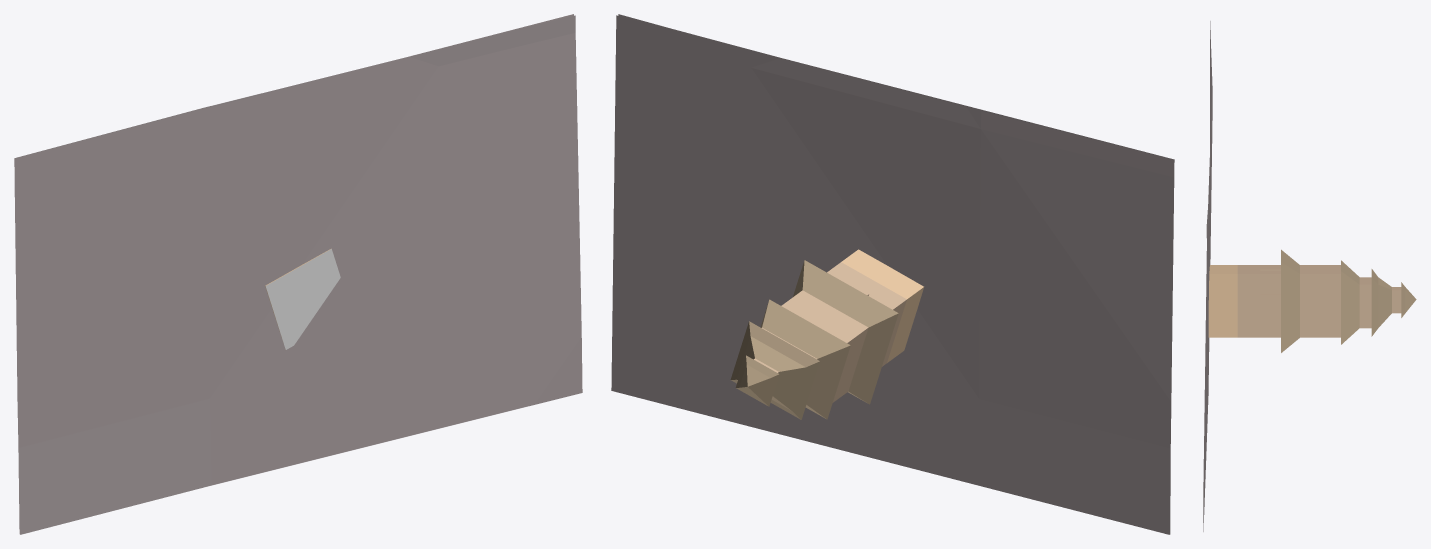
File: 7. PATAN+DURBAR+SQUARE+KATMANDU+NEPAL.fbx
3 views of the same model, side by side, from view 1: azimuth 30°, elevation 25°; view 2: azimuth 150°, elevation 25°; view 3: azimuth 270°, elevation 25° (orthographic). The views are drawn at different scales.
Visible parts, largest first — view 1: imagetostl_mesh22, imagetostl_mesh6, imagetostl_mesh5, imagetostl_mesh2, imagetostl_mesh10, imagetostl_mesh9, imagetostl_mesh3, imagetostl_mesh23, imagetostl_mesh4, imagetostl_mesh11, imagetostl_mesh17; view 2: imagetostl_mesh22, imagetostl_mesh5, imagetostl_mesh3, imagetostl_mesh1, imagetostl_mesh73, imagetostl_mesh16, imagetostl_mesh37, imagetostl_mesh69, imagetostl_mesh62, imagetostl_mesh14, imagetostl_mesh2, imagetostl_mesh36 (+10 smaller); view 3: imagetostl_mesh65, imagetostl_mesh78, imagetostl_mesh109, imagetostl_mesh67, imagetostl_mesh38, imagetostl_mesh6, imagetostl_mesh48, imagetostl_mesh5, imagetostl_mesh79, imagetostl_mesh122, imagetostl_mesh62, imagetostl_mesh10 (+4 smaller).
Part boxes in pixels (<box>): imagetostl_mesh22: <box>14,14,573,533</box>; imagetostl_mesh6: <box>219,46,527,483</box>; imagetostl_mesh5: <box>210,46,519,484</box>; imagetostl_mesh2: <box>17,400,211,534</box>; imagetostl_mesh10: <box>520,47,581,405</box>; imagetostl_mesh9: <box>520,33,581,328</box>; imagetostl_mesh3: <box>86,398,211,485</box>; imagetostl_mesh23: <box>265,249,340,349</box>; imagetostl_mesh4: <box>212,58,511,485</box>; imagetostl_mesh11: <box>534,337,582,404</box>; imagetostl_mesh17: <box>418,29,519,66</box>; imagetostl_mesh22: <box>611,15,1174,534</box>; imagetostl_mesh5: <box>751,68,980,398</box>; imagetostl_mesh3: <box>979,129,1170,430</box>; imagetostl_mesh1: <box>981,129,1173,395</box>; imagetostl_mesh73: <box>802,260,898,327</box>; imagetostl_mesh16: <box>674,29,980,128</box>; imagetostl_mesh37: <box>762,299,850,358</box>; imagetostl_mesh69: <box>848,313,898,404</box>; imagetostl_mesh62: <box>781,290,868,342</box>; imagetostl_mesh14: <box>981,111,1171,169</box>; imagetostl_mesh2: <box>1103,401,1170,534</box>; imagetostl_mesh36: <box>806,345,850,419</box>; imagetostl_mesh65: <box>1300,274,1340,337</box>; imagetostl_mesh78: <box>1237,274,1280,337</box>; imagetostl_mesh109: <box>1208,274,1237,337</box>; imagetostl_mesh67: <box>1281,262,1299,352</box>; imagetostl_mesh38: <box>1341,271,1359,344</box>; imagetostl_mesh6: <box>1204,242,1208,506</box>; imagetostl_mesh48: <box>1378,285,1391,327</box>; imagetostl_mesh5: <box>1208,109,1212,374</box>; imagetostl_mesh79: <box>1260,294,1280,314</box>; imagetostl_mesh122: <box>1371,278,1378,336</box>; imagetostl_mesh62: <box>1300,265,1340,273</box>; imagetostl_mesh10: <box>1203,237,1208,510</box>.
Size of the model in its own units: 481074 by 314003 by 194846.
